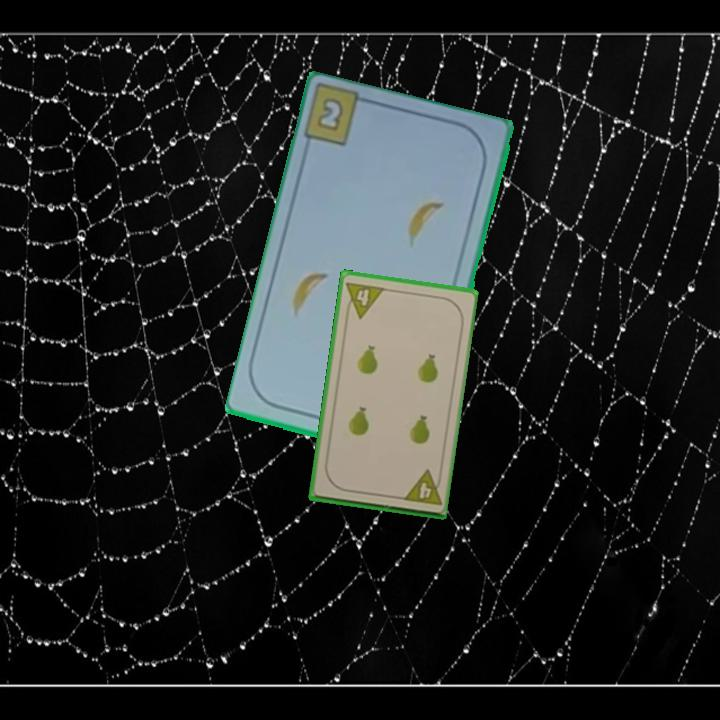2b: (313, 94, 347, 135)
4p: (342, 278, 387, 321), (399, 467, 445, 508)
